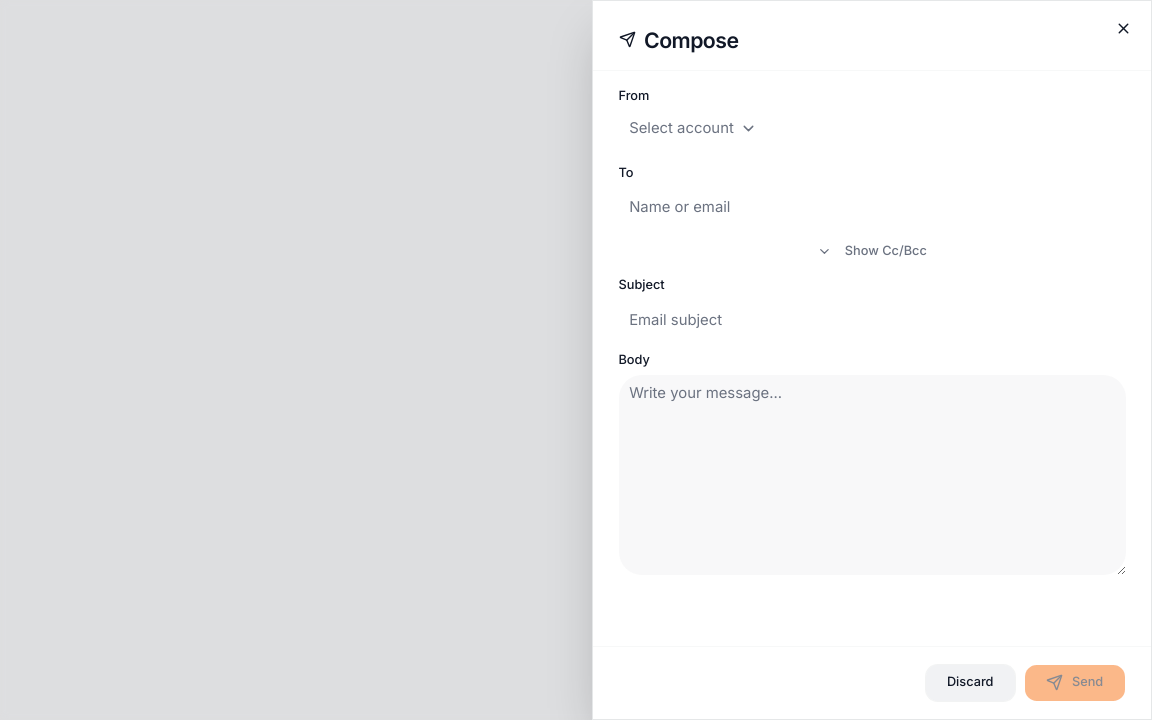
ComposeSheet › keeps the sheet open with the message when the send fails
This screenshot has width=1152, height=720.
Expected: the field with placeholder "Email subject" is shown, [618,300,1126,339]
In the field with placeholder "Name or email": [872, 207] box [618,188,1126,226], type "ada@example.com, bob@example.com"
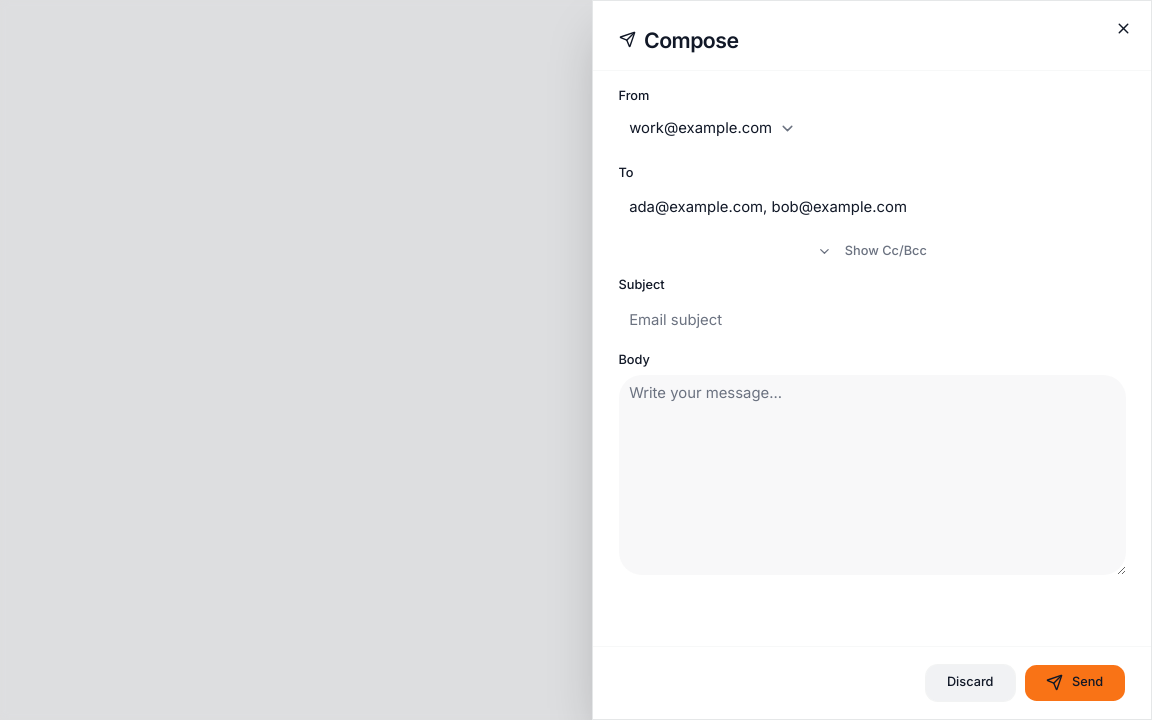
In the field with placeholder "Email subject": [872, 320] box [618,300,1126,339], type "Hello"
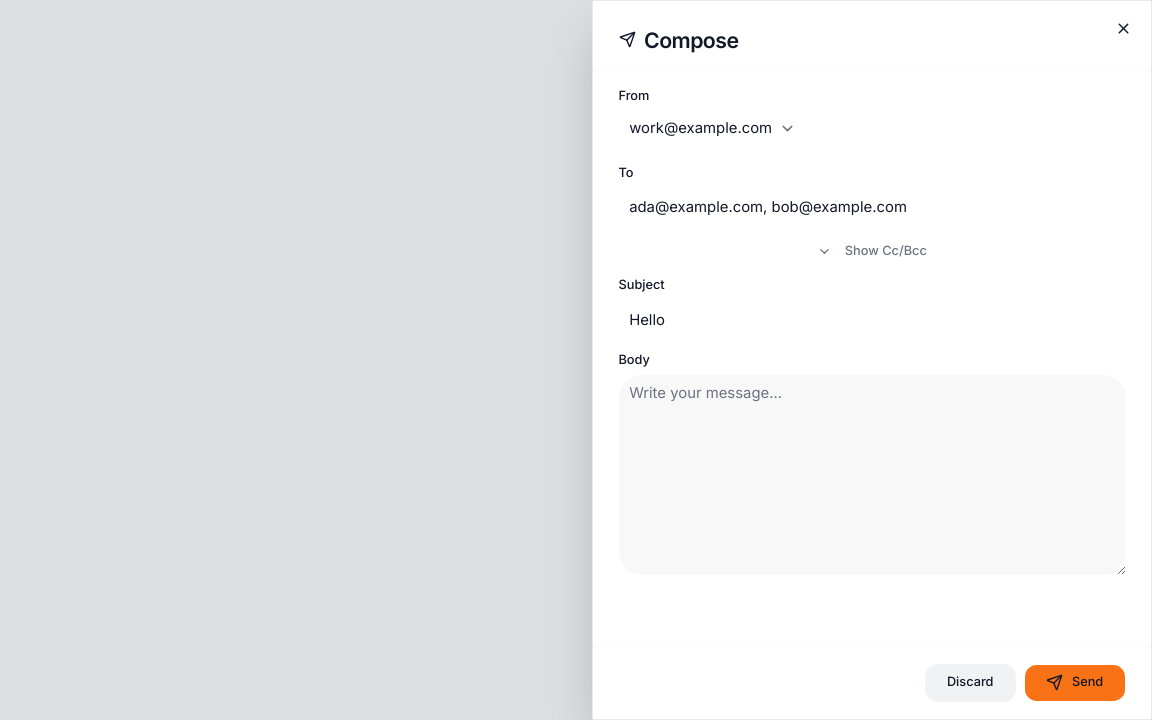
In the text box with placeholder "Write your message...": [872, 475] box [618,375,1126,575], type "Body text"
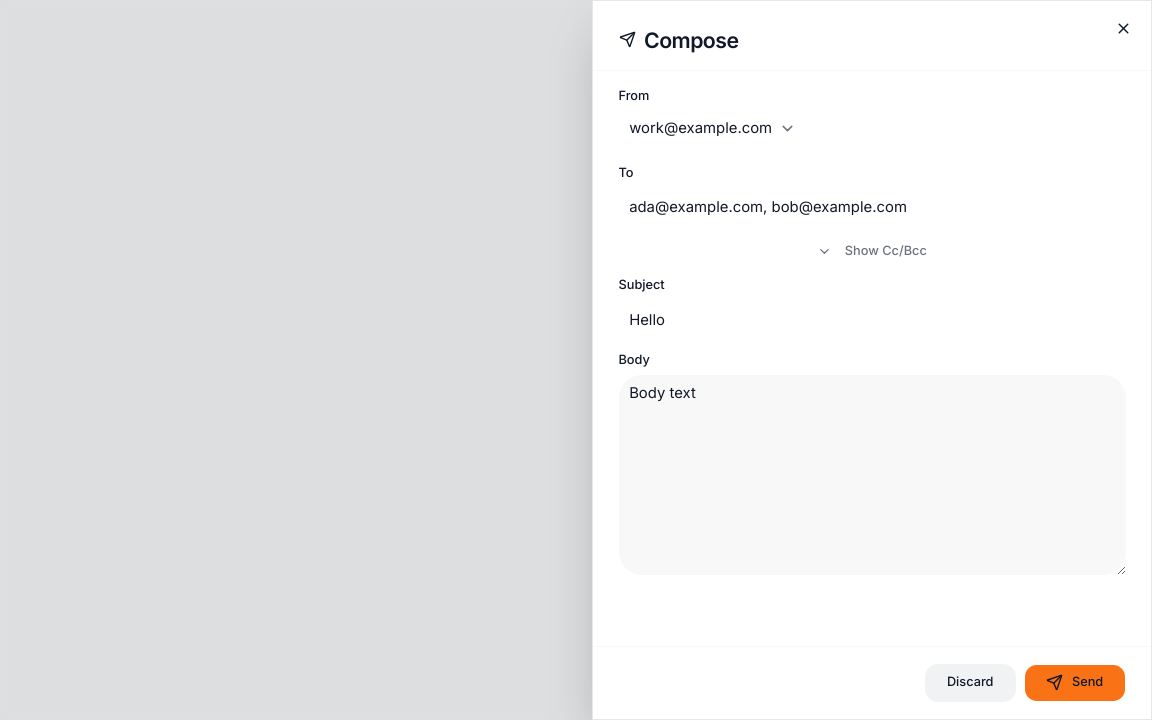
Click the button "Send": [1075, 683] box [1024,664,1126,702]
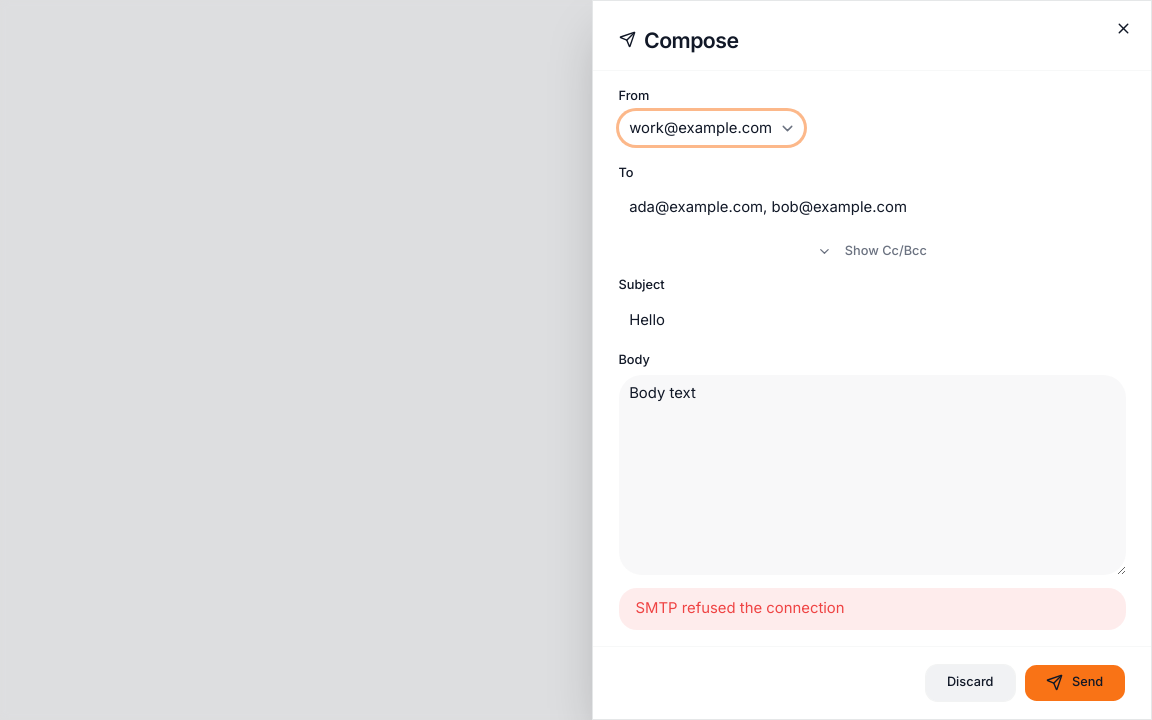
Expected: the text "SMTP refused the connection" is shown, [618,588,1126,630]
